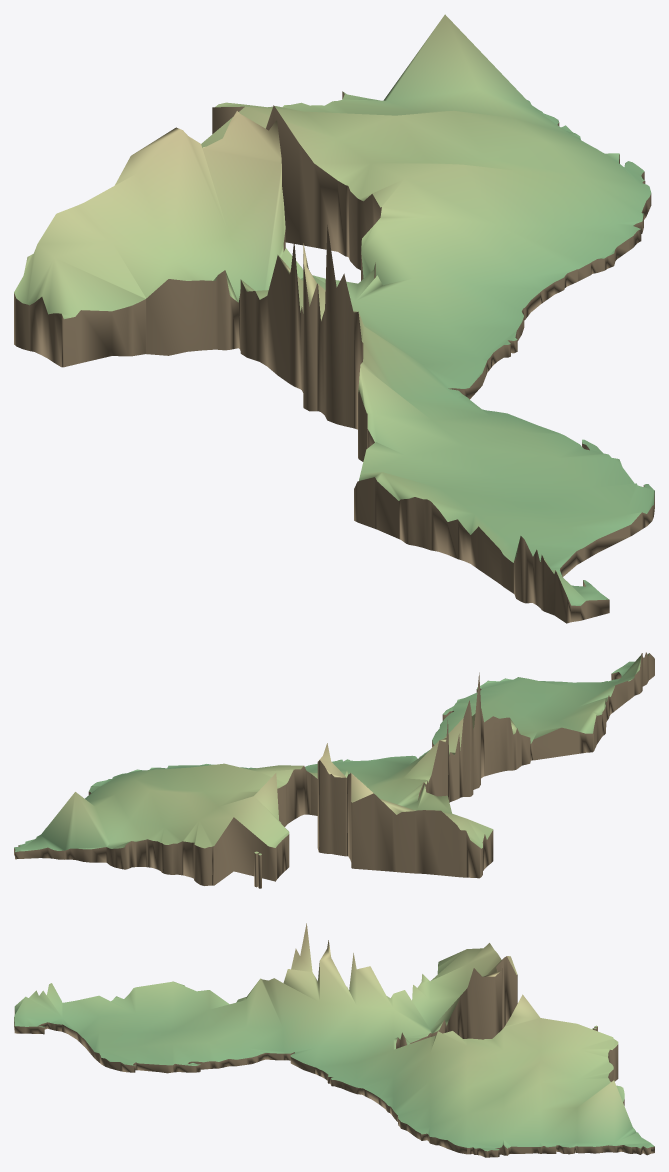
File: MOZ.glb
3 views of the same model, one above another, from view 1: azimuth 30°, elevation 25°; view 2: azimuth 150°, elevation 25°; view 3: azimuth 270°, elevation 25° (orthographic). The views are drawn at different scales.
Parts seen in each view (by area): view 1: MOZ; view 2: MOZ; view 3: MOZ.
Part boxes in pixels (x1=…): MOZ: x1=14, y1=14, x2=654, y2=623; MOZ: x1=14, y1=652, x2=654, y2=888; MOZ: x1=14, y1=923, x2=654, y2=1157.
Bounding box in the file's own units: 1.01 × 0.2987 × 1.62.
